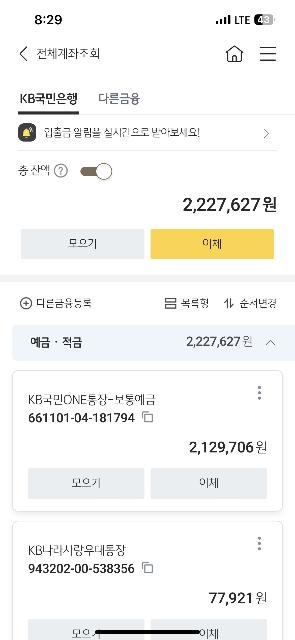Card: (11, 370, 284, 512), (12, 520, 284, 640)
Icon: (19, 123, 37, 141), (226, 46, 244, 62), (260, 46, 278, 62), (19, 44, 29, 61), (54, 164, 68, 176), (142, 411, 154, 423), (142, 561, 154, 573), (20, 298, 32, 308), (165, 298, 176, 308), (225, 298, 235, 308), (264, 128, 270, 138), (258, 386, 262, 400), (258, 536, 262, 550), (266, 340, 276, 344)
Switch: (81, 163, 112, 179)
Text: (45, 127, 201, 137), (184, 197, 276, 213), (29, 562, 135, 574), (29, 396, 155, 406), (29, 412, 135, 422), (30, 545, 126, 555), (190, 442, 266, 454), (20, 92, 77, 106), (210, 592, 266, 606), (36, 48, 100, 60), (188, 337, 253, 348), (32, 337, 83, 348), (37, 298, 91, 308), (100, 93, 140, 105), (19, 164, 49, 176), (242, 298, 276, 308), (72, 628, 100, 640), (72, 478, 100, 488), (70, 239, 96, 249), (182, 298, 208, 308), (203, 238, 221, 250), (201, 478, 219, 488), (200, 629, 218, 639)
TextButton: (22, 229, 144, 259), (152, 229, 274, 259), (151, 468, 268, 499), (28, 468, 146, 498)
Toolbar: (0, 39, 295, 73)
UpperTaskBar: (0, 0, 295, 38)
